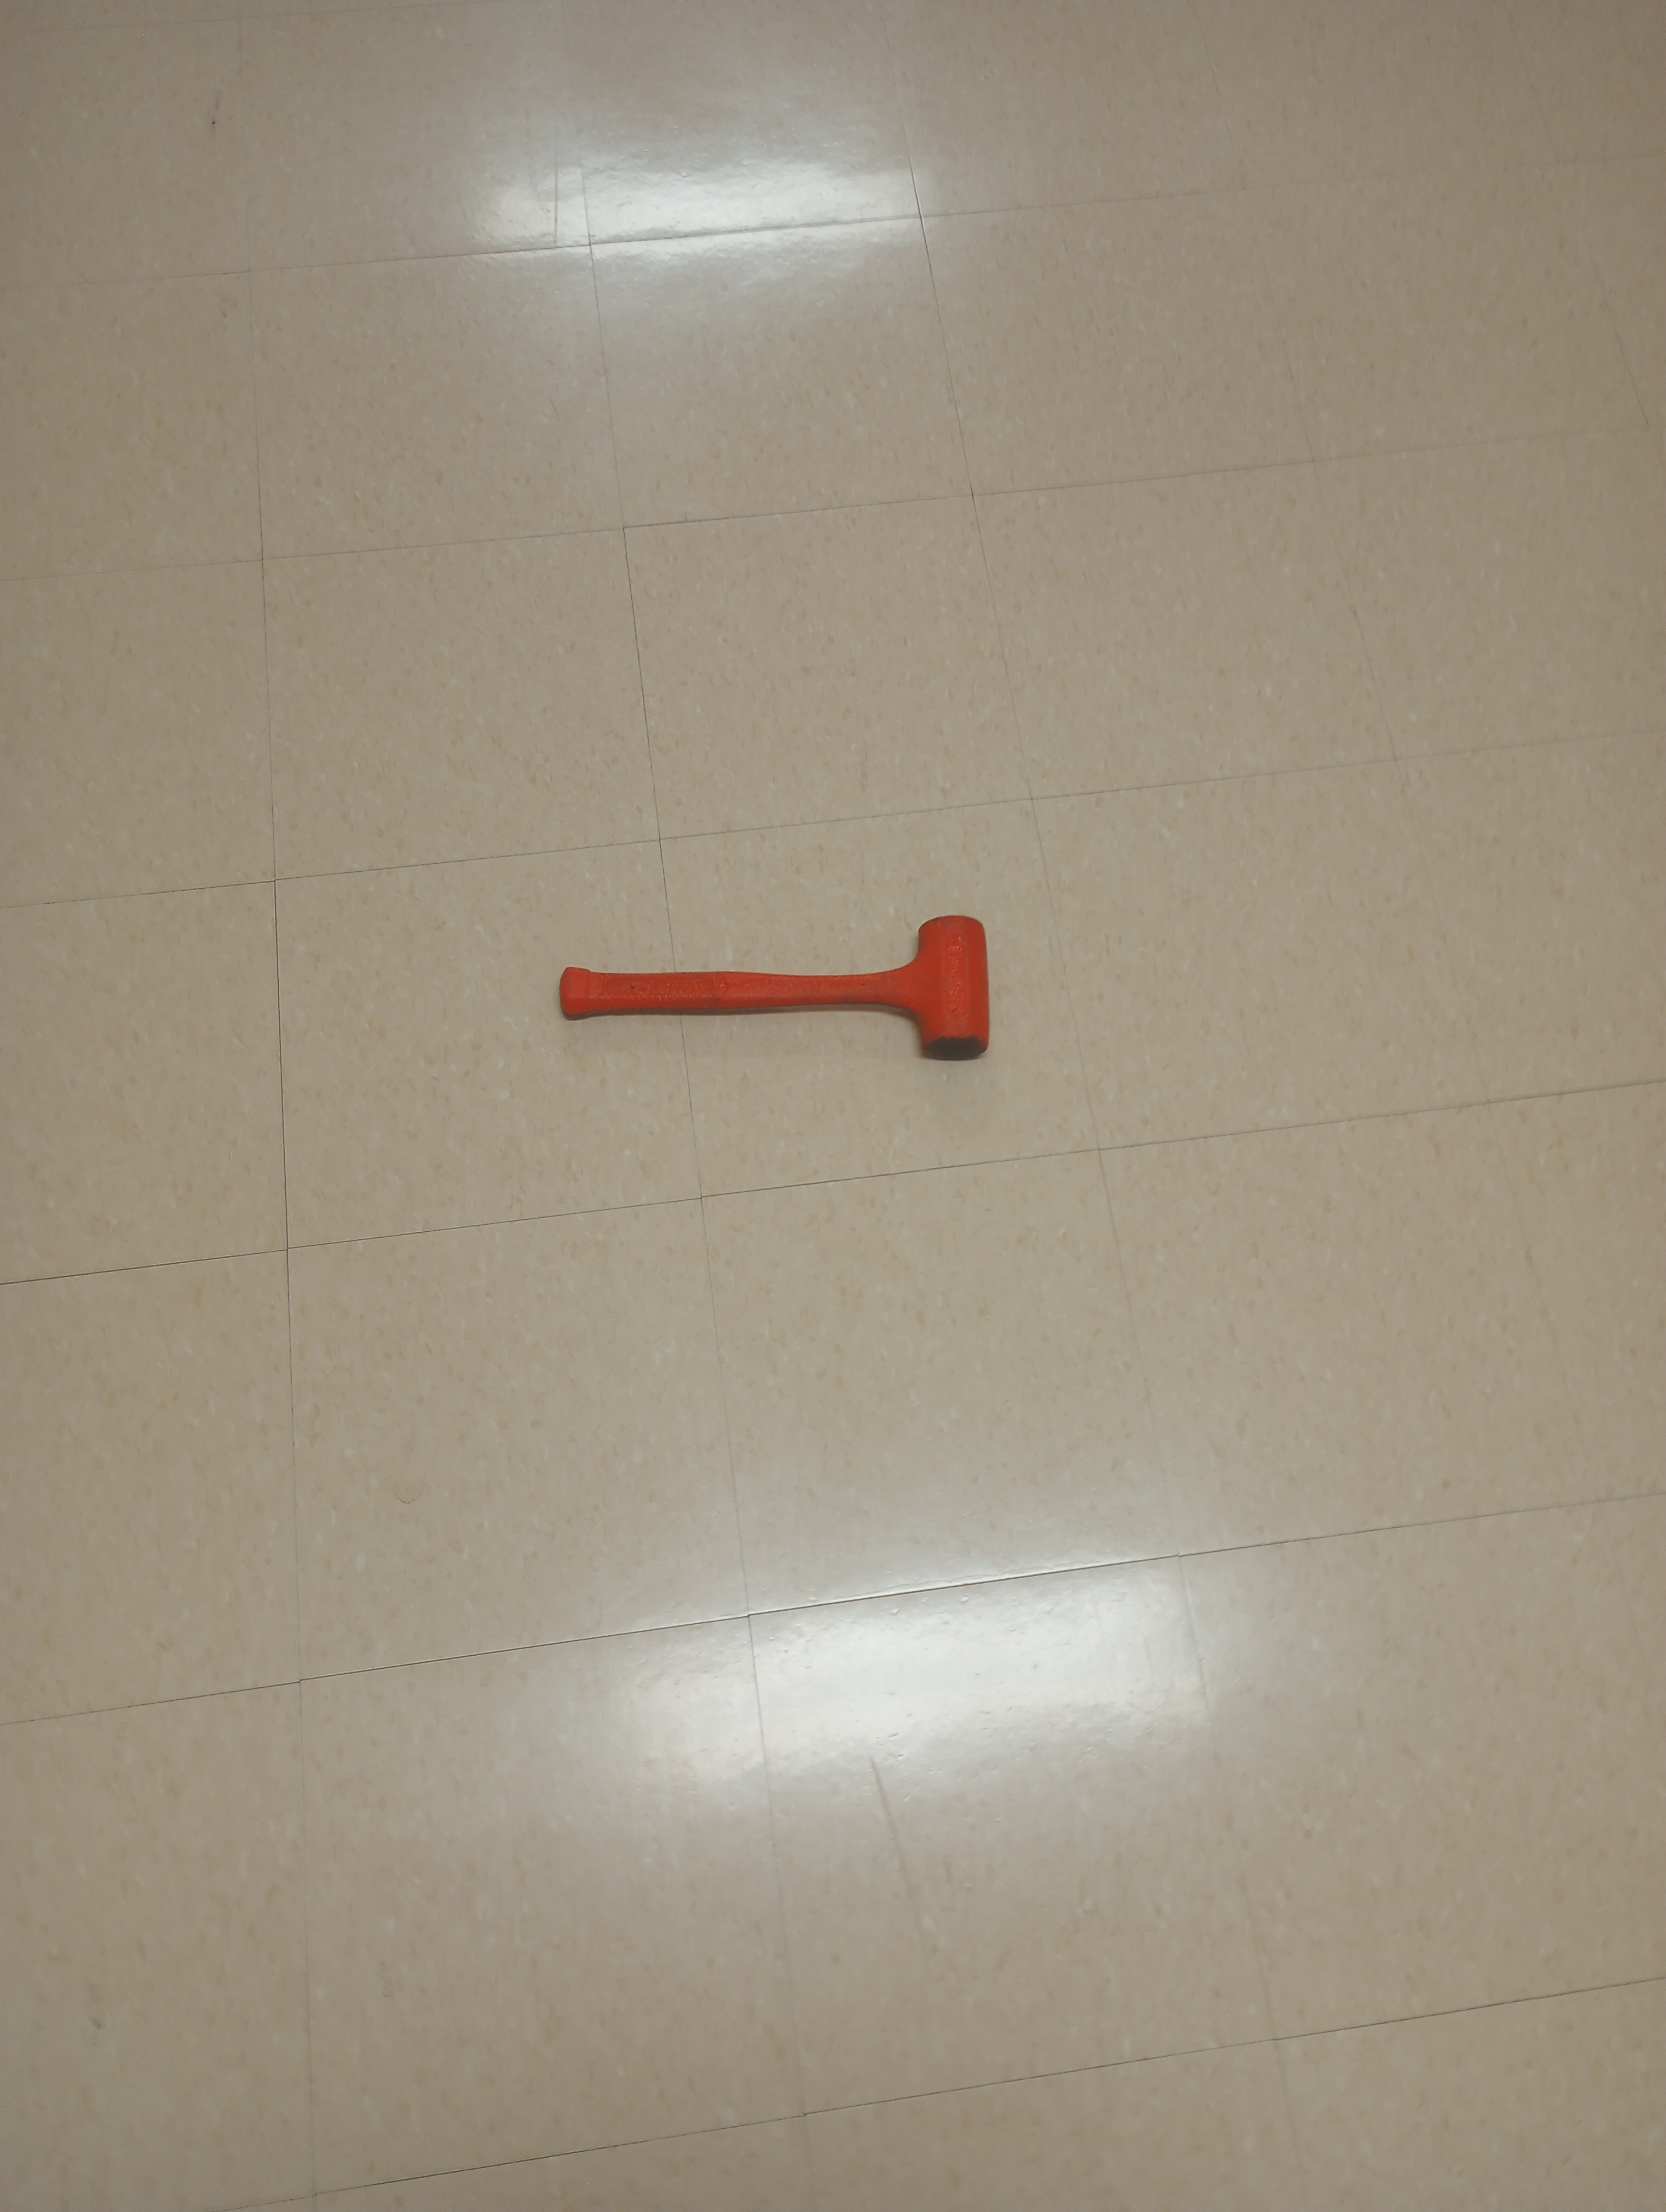bottle: (555, 899, 998, 1072)
